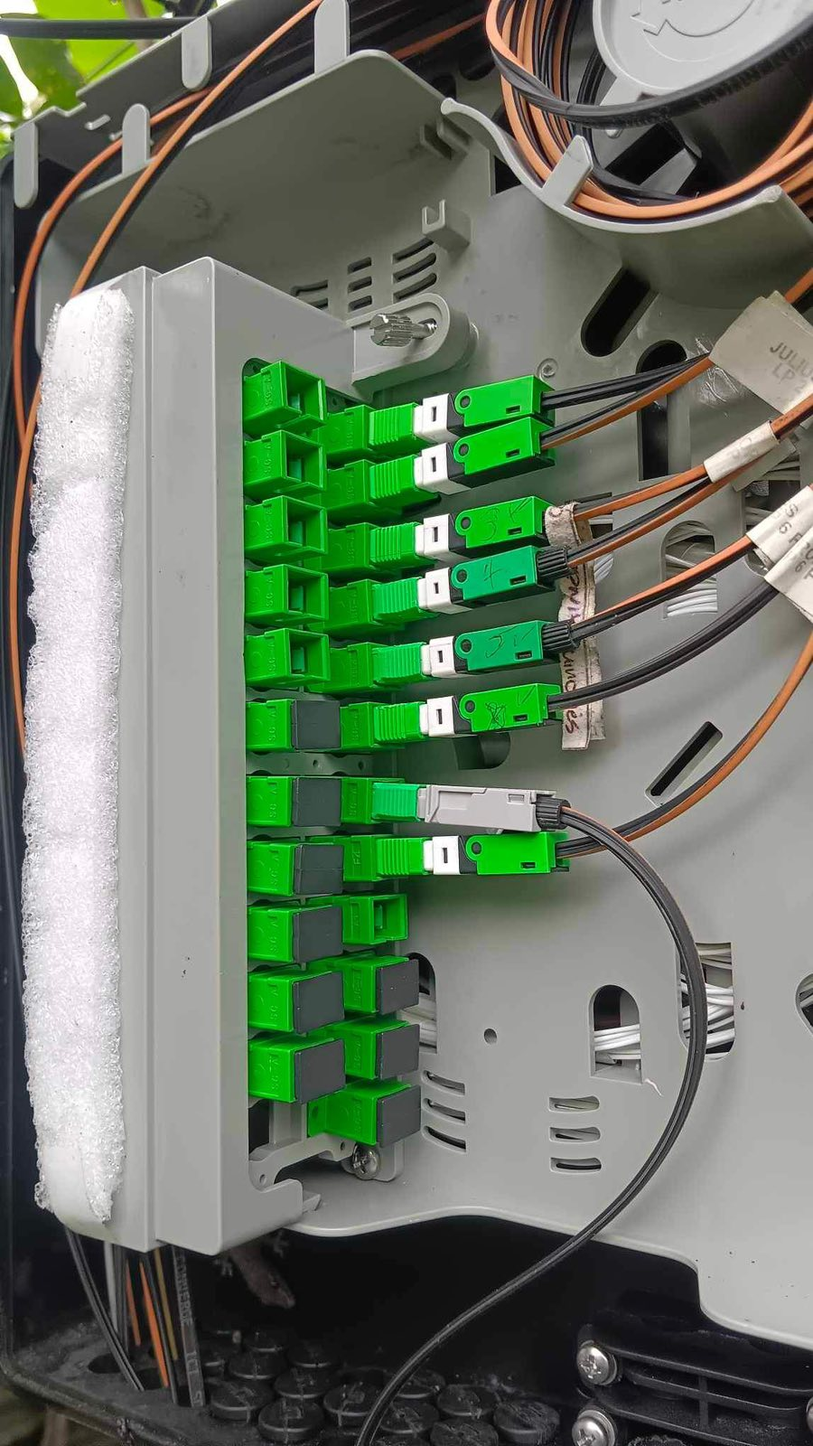no dust cap: (281, 431, 327, 493), (280, 499, 326, 556), (281, 365, 325, 423), (283, 567, 330, 621), (284, 634, 332, 678), (374, 893, 409, 947)
no port: (247, 1084, 304, 1166)
occupied: (363, 412, 567, 511), (362, 533, 581, 625), (366, 364, 569, 453), (368, 490, 589, 565), (369, 616, 586, 689), (373, 677, 572, 748), (371, 826, 589, 888), (368, 779, 580, 837)
vacant: (291, 968, 347, 1035), (294, 1038, 346, 1106), (293, 903, 344, 966), (378, 1081, 421, 1151), (293, 844, 346, 893), (377, 958, 421, 1015), (293, 778, 343, 828), (293, 701, 341, 753), (377, 1024, 418, 1082)
